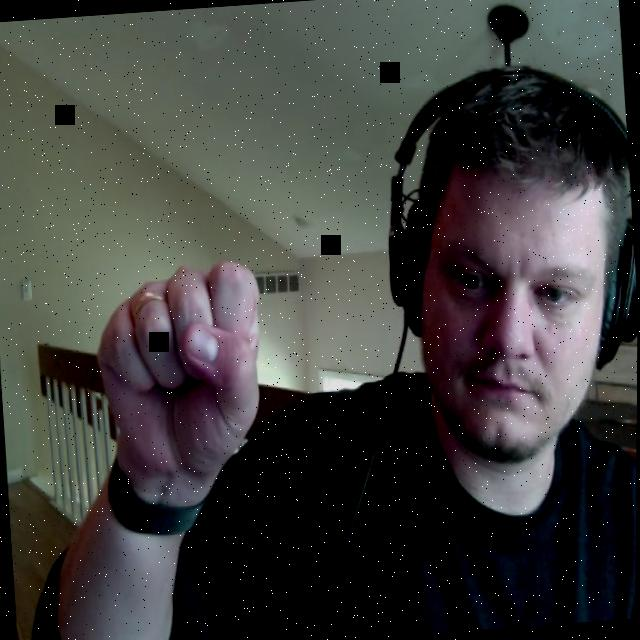Rock: (80, 258, 275, 496)
